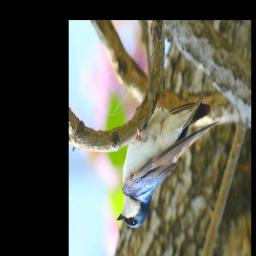Swallow: (116, 87, 220, 229)
